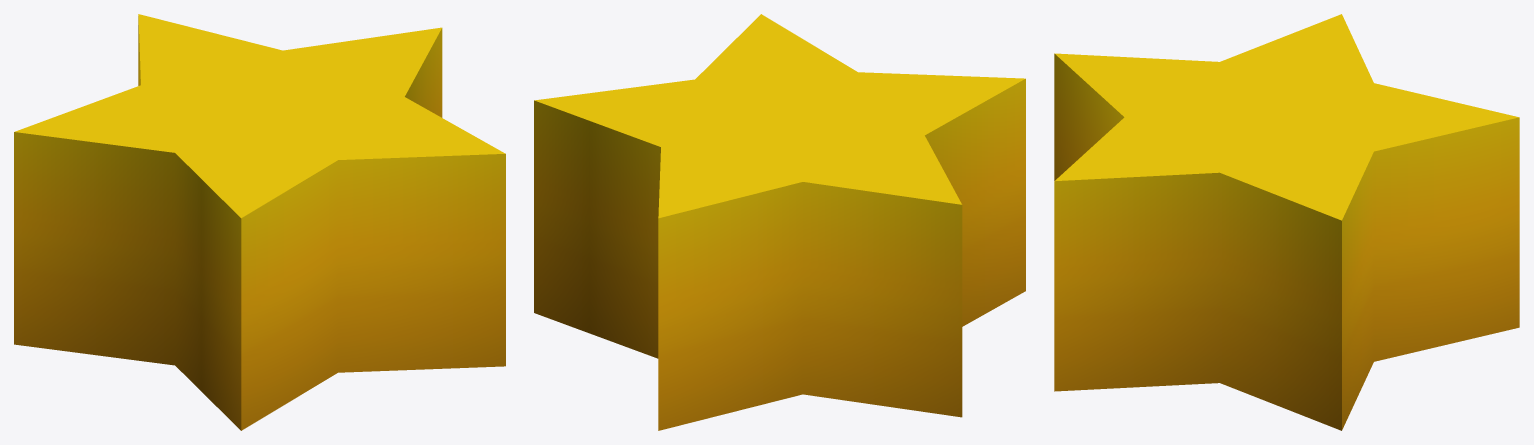
Rendered from logicCube_star.fbx.
3 views of the same model, side by side, from view 1: azimuth 30°, elevation 25°; view 2: azimuth 150°, elevation 25°; view 3: azimuth 270°, elevation 25° (orthographic).
Parts seen in each view (by area): view 1: logicCube_star; view 2: logicCube_star; view 3: logicCube_star.
Boxes of the visible parts, x1,y1,x2,y2 form: logicCube_star: [14, 14, 505, 430]; logicCube_star: [534, 14, 1025, 430]; logicCube_star: [1054, 14, 1519, 430].
Bounding box in the file's own units: 6.52 × 3.1 × 6.2.
